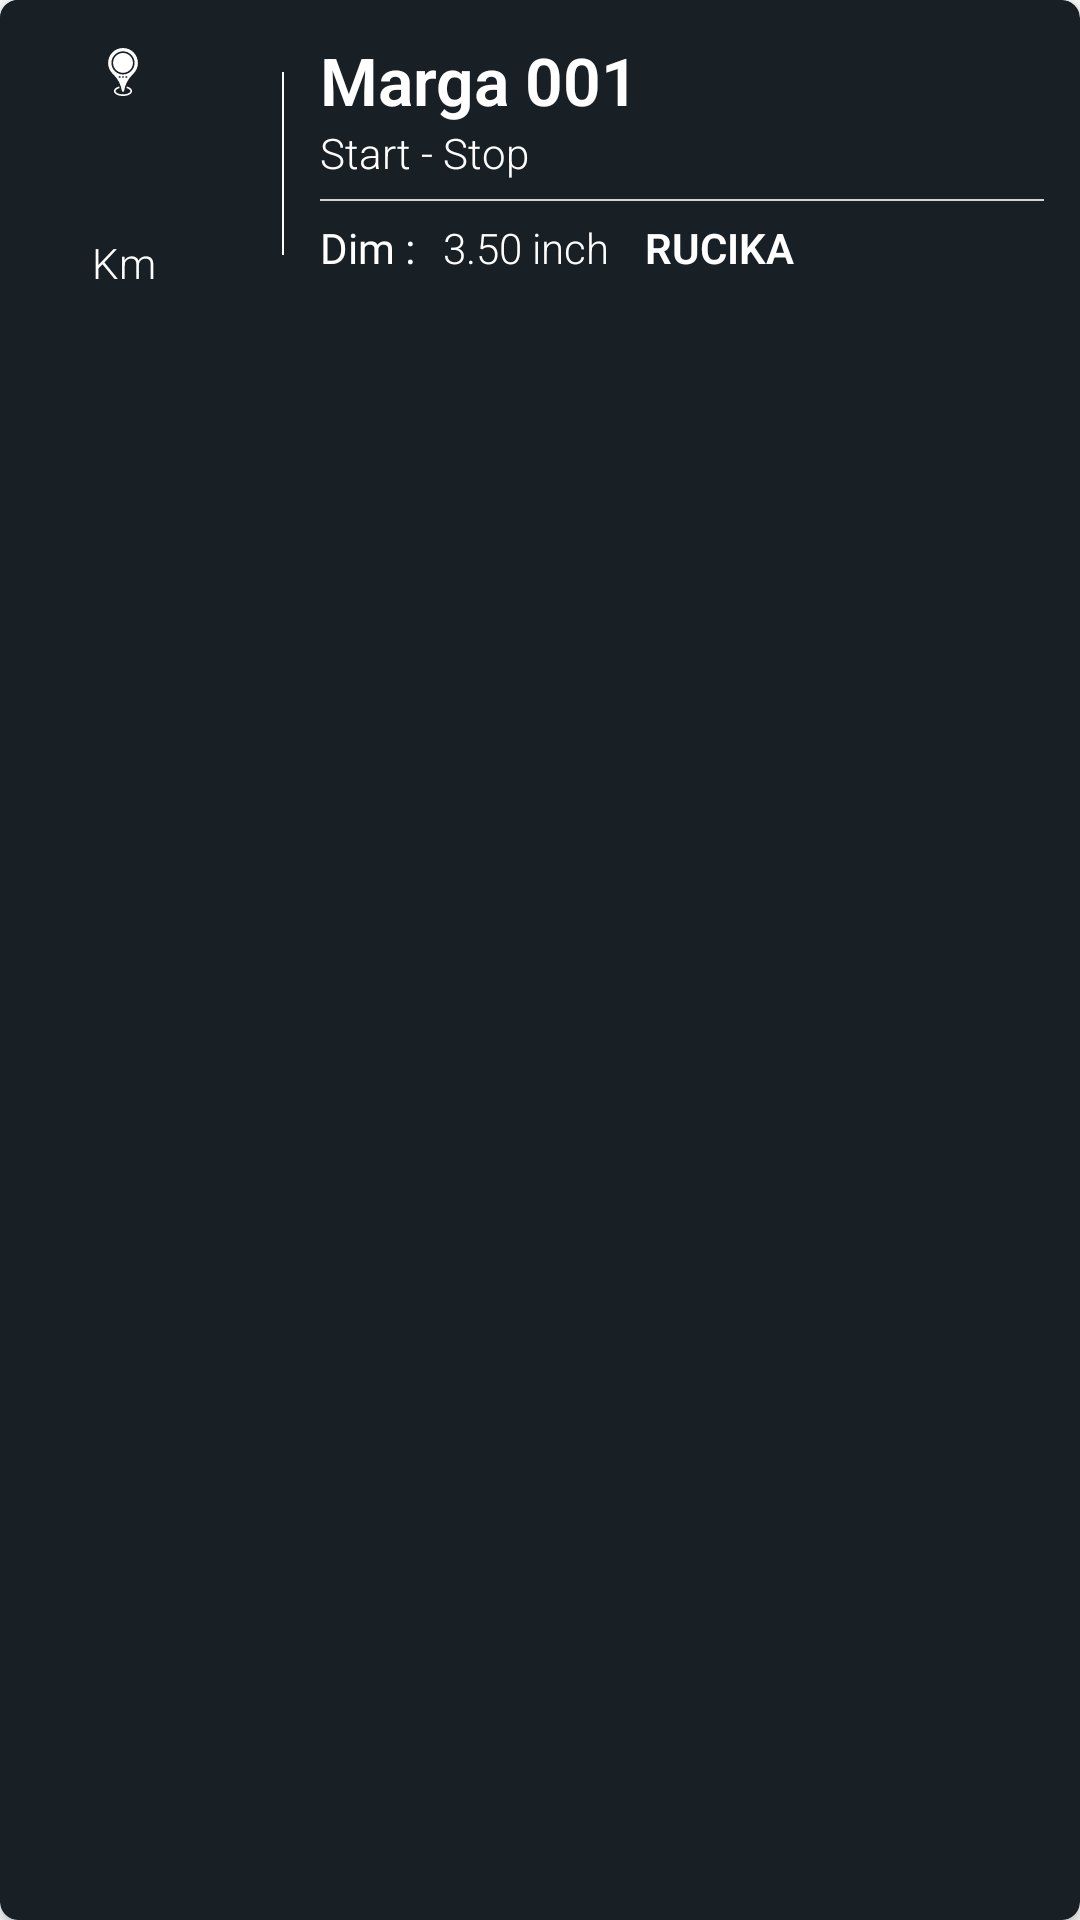

Named icons in this screenshot (1080×1920) and their bounding boxes, {"left": x1, "top": y1, "right": x2, "bottom": y2}:
location pin: {"left": 108, "top": 48, "right": 138, "bottom": 96}
